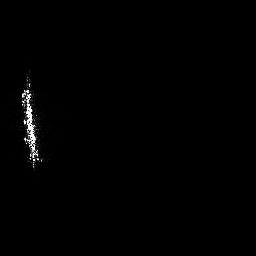ship: (20, 69, 44, 172)
